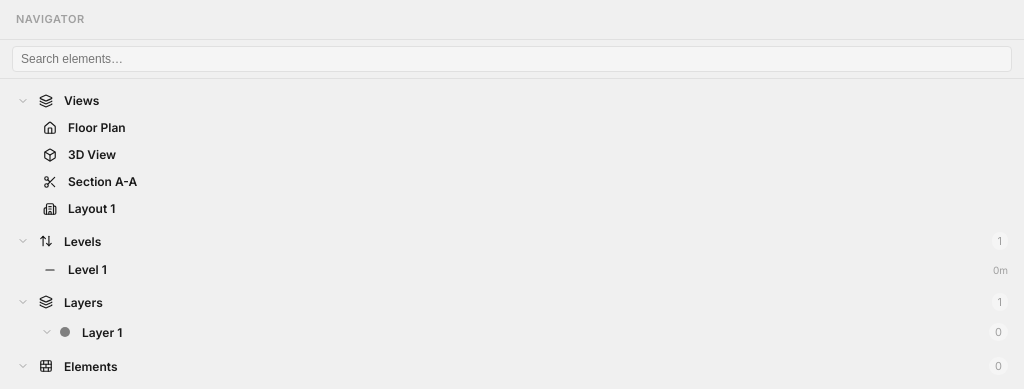
Test: T-UI-004: Navigator › collapses Layers section on click
Click the text "Layers".
click(83, 302)  # box [0,287,1023,317]
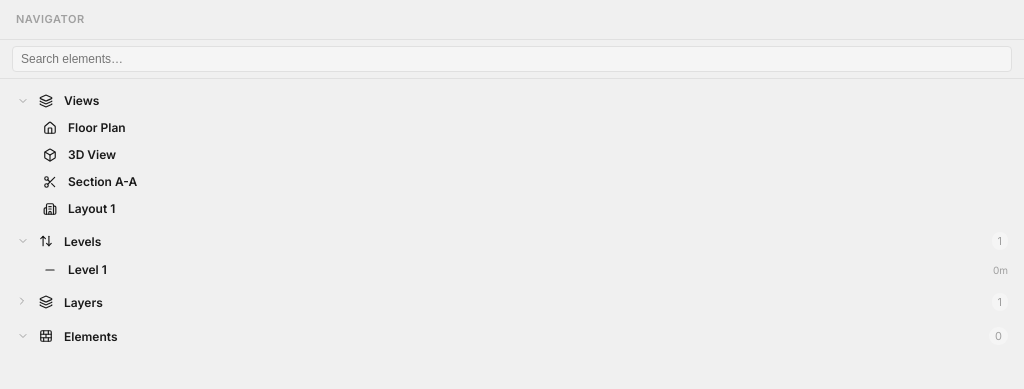
Expected: the text "Layer 1" is gone
